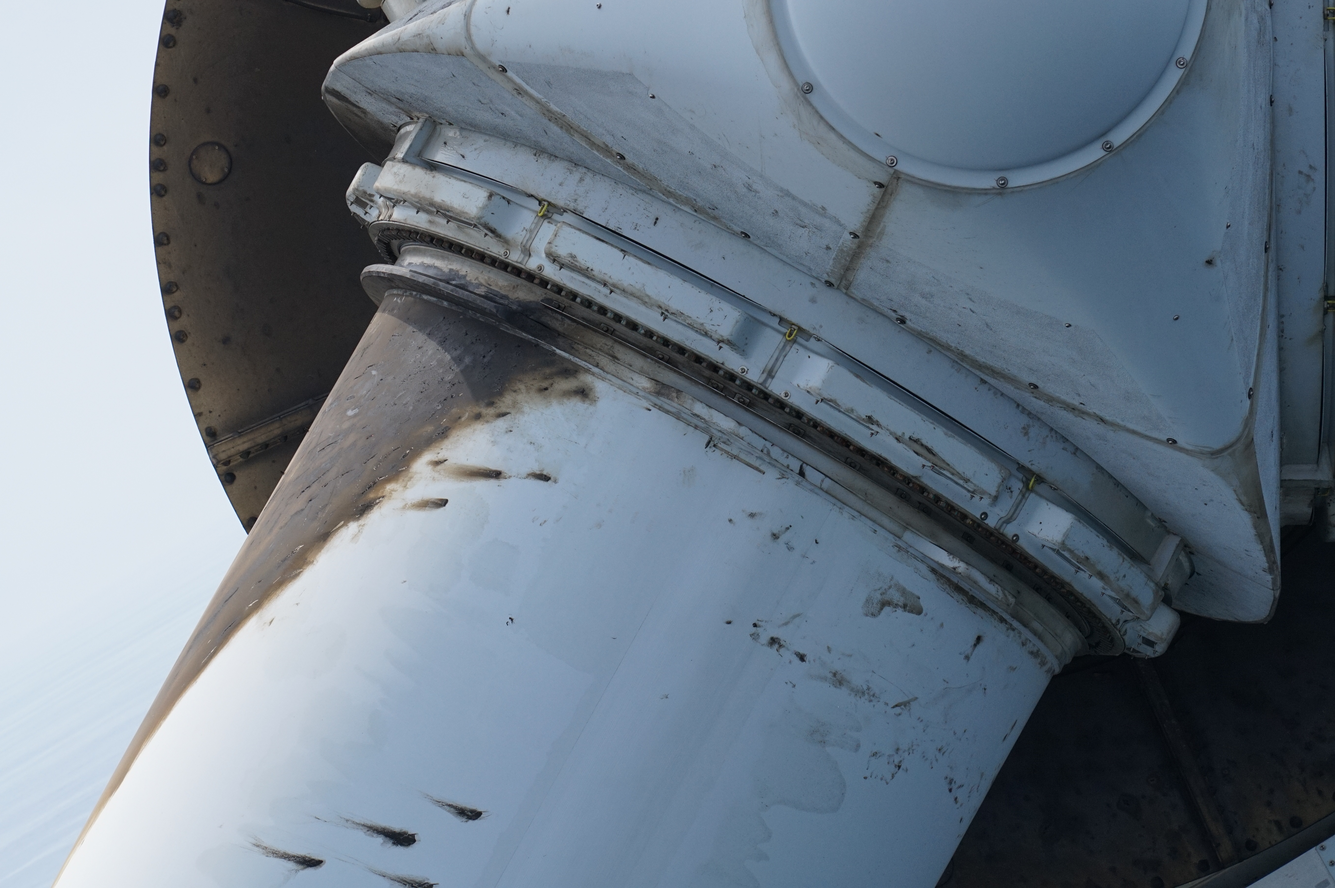Dirt: (342, 816, 424, 855), (251, 844, 326, 873), (425, 793, 488, 827), (370, 870, 441, 888)
